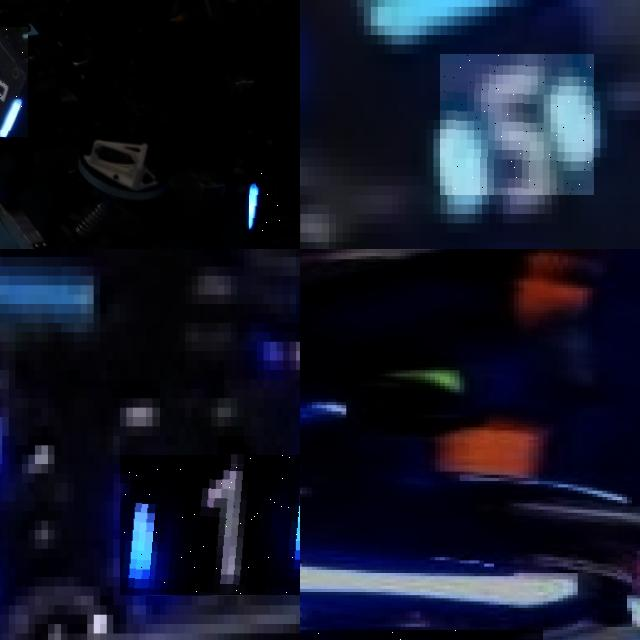B1: (119, 454, 300, 595)
B5: (440, 54, 594, 195)
Bs: (248, 166, 300, 240), (0, 27, 28, 136)
